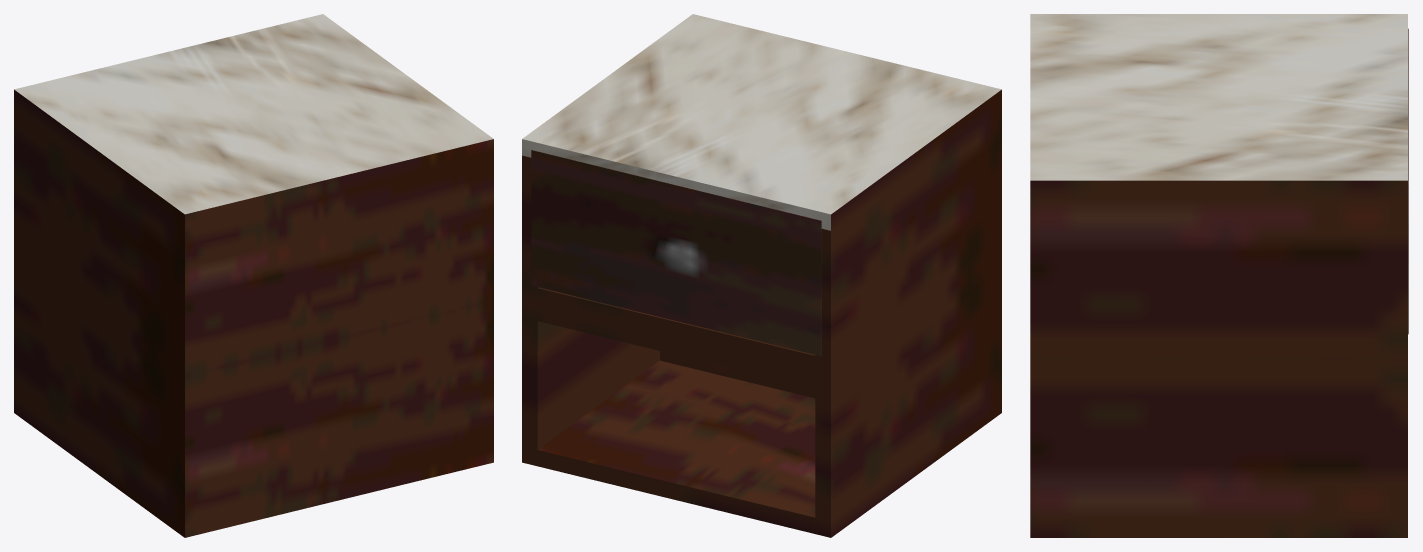
Rendered from KitchenDrawer.fbx.
3 views of the same model, side by side, from view 1: azimuth 30°, elevation 25°; view 2: azimuth 150°, elevation 25°; view 3: azimuth 270°, elevation 25° (orthographic). The views are drawn at different scales.
Parts seen in each view (by area): view 1: KitchenDrawerElement; view 2: KitchenDrawerElement, KitchenDrawerDrawer; view 3: KitchenDrawerElement.
Boxes of the visible parts, bbox=[...] form: KitchenDrawerElement: bbox=[14, 14, 493, 537]; KitchenDrawerElement: bbox=[522, 14, 1001, 537]; KitchenDrawerDrawer: bbox=[531, 150, 821, 355]; KitchenDrawerElement: bbox=[1030, 14, 1407, 537].
Size of the model in its own units: 100 by 100 by 95.92.
